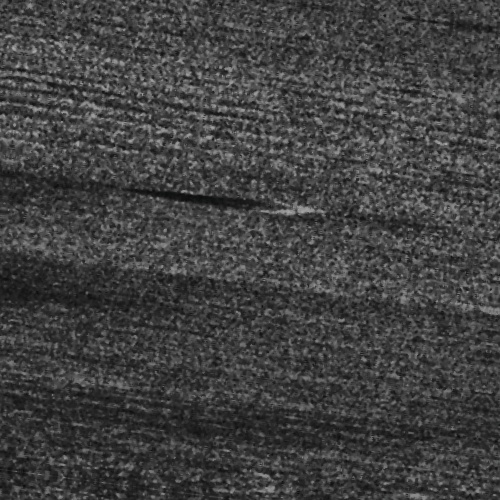object: (250, 196, 323, 207)
shadow: (190, 196, 286, 207)
